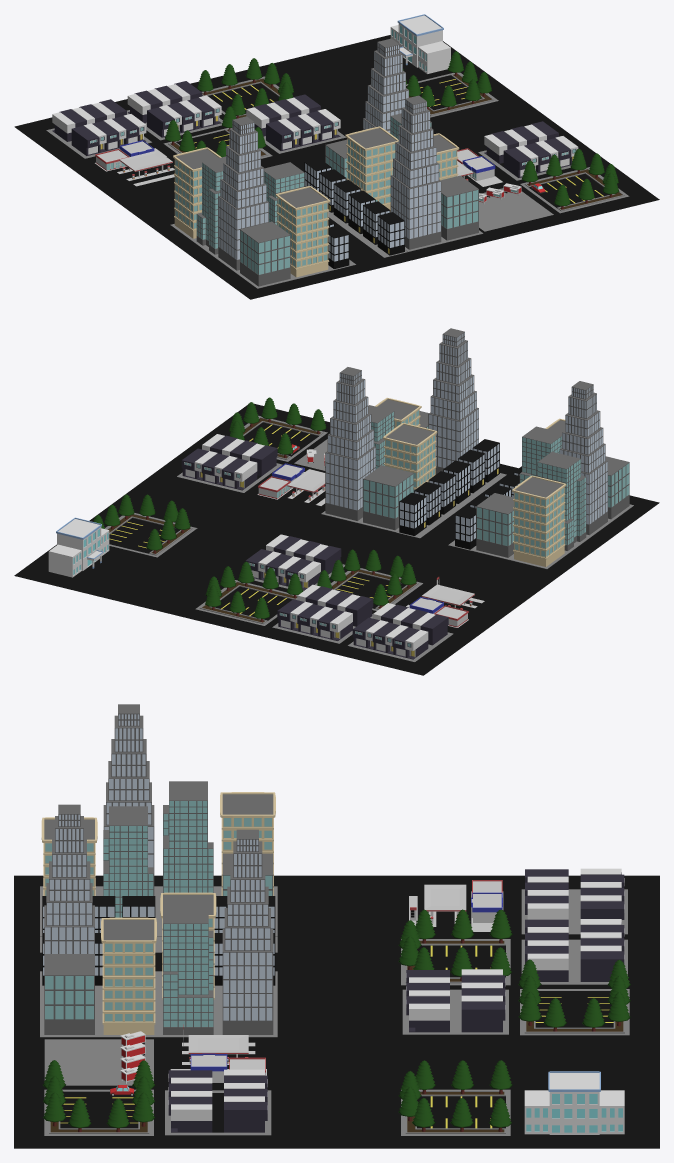
File: rock_kicking_city_ground.glb
3 views of the same model, one above another, from view 1: azimuth 30°, elevation 25°; view 2: azimuth 150°, elevation 25°; view 3: azimuth 270°, elevation 25° (orthographic). The views are drawn at different scales.
Parts seen in each view (by area): view 1: PlaneRoadCity.003, GrassTransition, PlaneRoadCity, PlaneRoadCity.002, PlaneRoad.002, PlaneRoadCity.001, PlaneShirtzenpantzBuilding.001, PlaneTownHouse, PlaneTownHouse.002, PlaneTownHouse.001, PlaneTownHouse.003, PlaneHospital (+15 smaller); view 2: PlaneRoad.002, PlaneRoadCity.002, GrassTransition, PlaneRoadCity.001, PlaneRoadCity.003, PlaneRoadCity, PlaneHospital, PlaneShirtzenpantzBuilding.001, PlaneTownHouse, PlaneTownHouse.003, PlaneTownHouse.001, PlaneTownHouse.002 (+15 smaller); view 3: PlaneRoad.002, GrassTransition, PlaneRoadCity.002, PlaneRoadCity, PlaneRoadCity.003, PlaneRoadCity.001, PlaneTownHouse.003, PlaneTownHouse.002, PlaneHospital, PlaneTownHouse.001, PlaneTownHouse, PlaneRoad (+15 smaller).
Part boxes in pixels (x1,y1,x2,y2): PlaneRoadCity.003: (214,116,332,288); GrassTransition: (14,35,659,299); PlaneRoadCity: (390,95,483,251); PlaneRoadCity.002: (325,38,431,212); PlaneRoad.002: (127,101,533,224); PlaneRoadCity.001: (170,147,225,256); PlaneShirtzenpantzBuilding.001: (304,158,404,255); PlaneTownHouse: (40,99,157,161); PlaneTownHouse.002: (246,94,347,156); PlaneTownHouse.001: (124,81,223,142); PlaneTownHouse.003: (473,121,589,183); PlaneHospital: (341,14,450,82); PlaneRoad.002: (132,477,546,600); PlaneRoadCity.002: (321,367,437,532); GrassTransition: (14,404,659,675); PlaneRoadCity.001: (472,451,590,569); PlaneRoadCity.003: (519,381,633,536); PlaneRoadCity: (375,328,478,474); PlaneHospital: (40,517,158,591); PlaneShirtzenpantzBuilding.001: (399,439,499,535); PlaneTownHouse: (341,603,459,664); PlaneTownHouse.003: (170,434,288,495); PlaneTownHouse.001: (266,584,374,646); PlaneTownHouse.002: (234,534,345,590); PlaneRoad.002: (277,886,396,1137); GrassTransition: (14,875,659,1148); PlaneRoadCity.002: (158,829,277,1037); PlaneRoadCity: (40,804,158,1037); PlaneRoadCity.003: (40,704,158,936); PlaneRoadCity.001: (158,781,277,936); PlaneTownHouse.003: (158,1069,277,1137); PlaneTownHouse.002: (396,969,515,1037); PlaneHospital: (515,1071,633,1137); PlaneTownHouse.001: (515,919,633,987); PlaneTownHouse: (515,868,633,936); PlaneRoad: (515,1037,633,1087).
Bounding box in the file's own units: 500 × 165 × 500.
